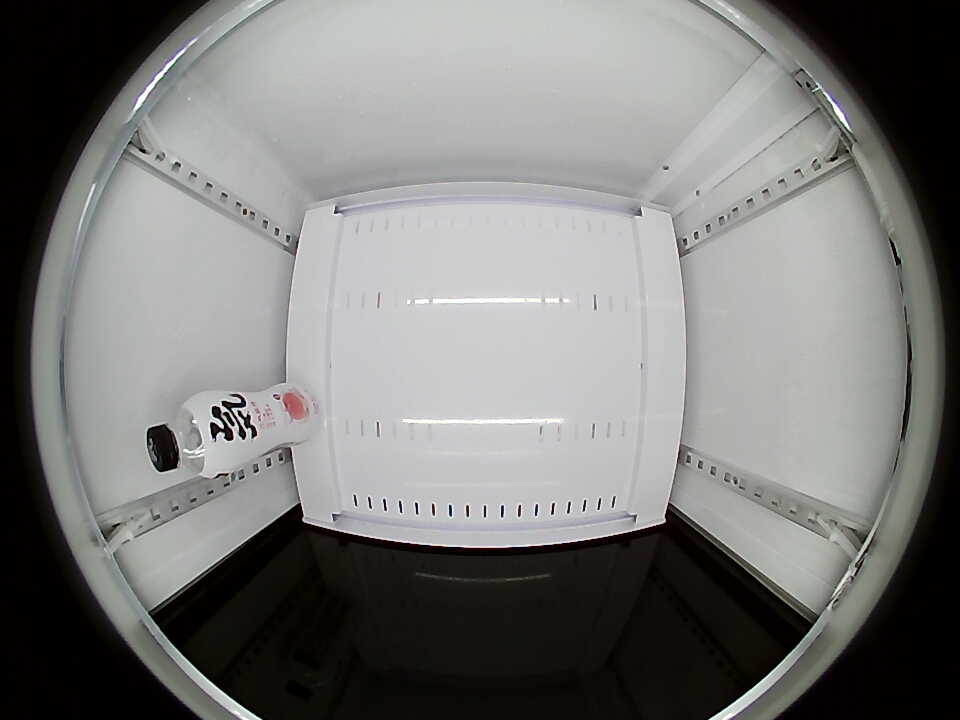yuanqishui: (146, 393, 235, 477)
